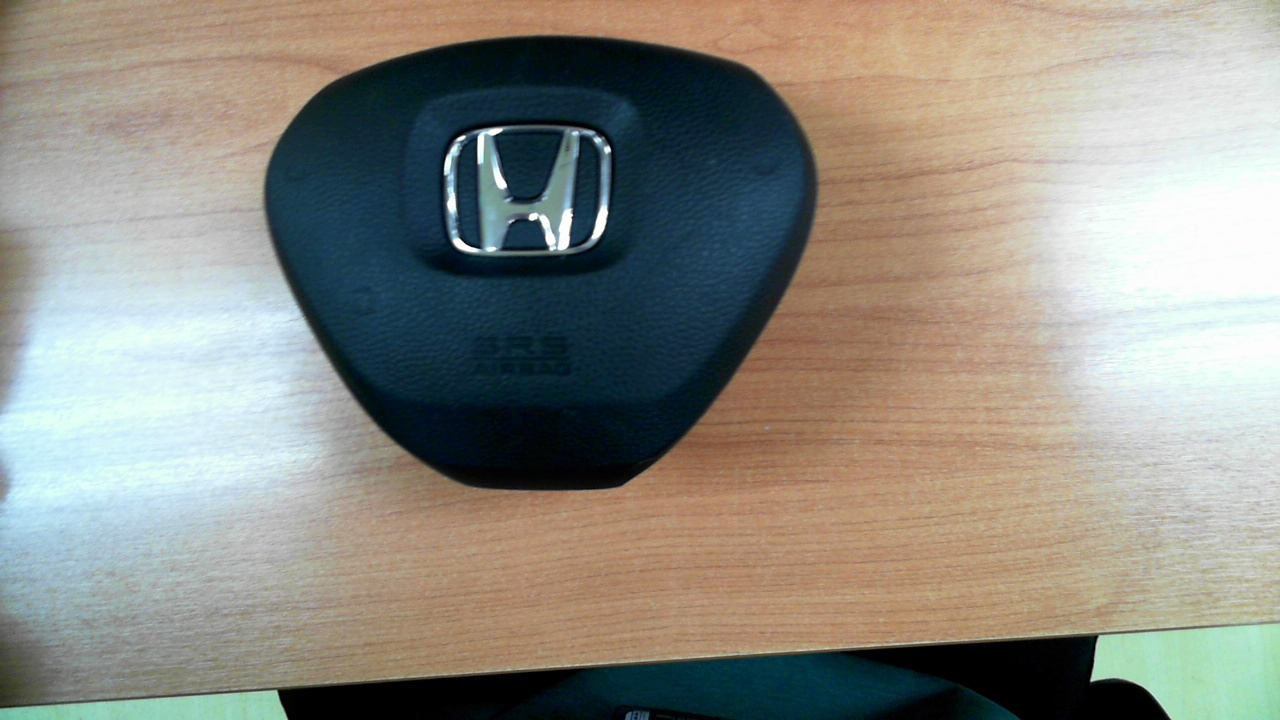Airbag: (262, 35, 819, 491)
Honda: (440, 121, 611, 256)
